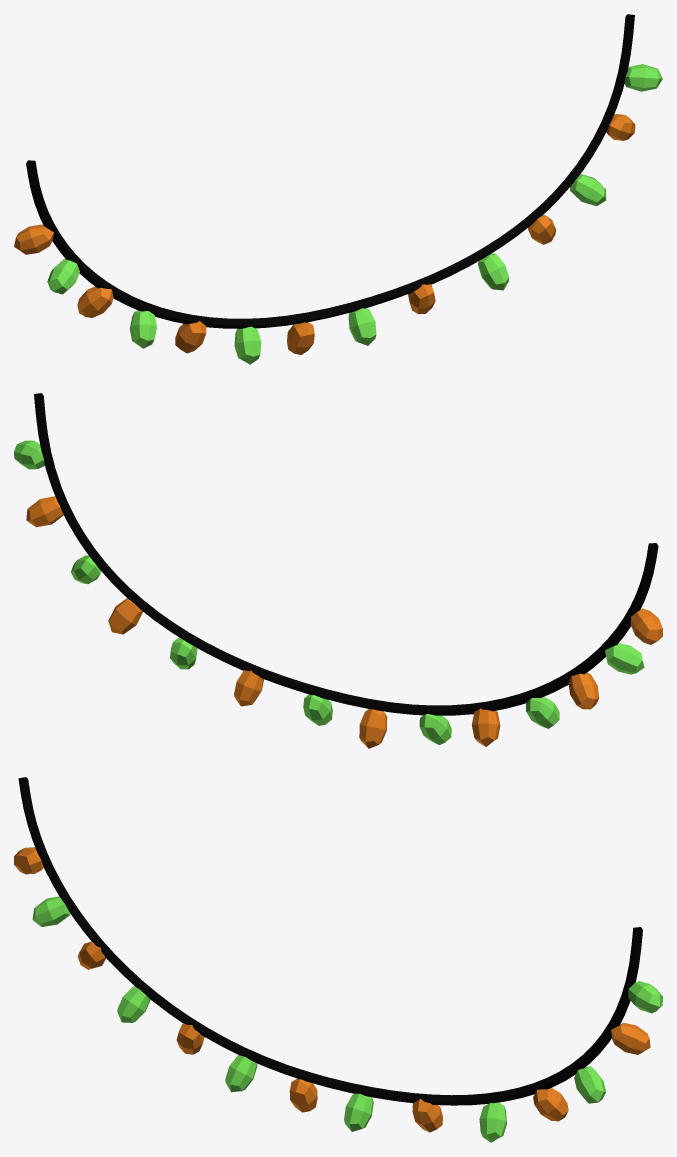
The model's file is Flasher.fbx.
The picture shows the model from 3 angles, top to bottom: view 1: azimuth 30°, elevation 25°; view 2: azimuth 150°, elevation 25°; view 3: azimuth 330°, elevation 25°; orthographic projection. The views are drawn at different scales.
Parts seen in each view (by area): view 1: Flasher.001, Flasher, Flasher.002; view 2: Flasher.001, Flasher.002, Flasher; view 3: Flasher.001, Flasher, Flasher.002.
Boxes of the visible parts, bbox=[...] form: Flasher.001: bbox=[26, 14, 634, 328]; Flasher: bbox=[47, 64, 662, 364]; Flasher.002: bbox=[14, 114, 635, 354]; Flasher.001: bbox=[34, 393, 658, 715]; Flasher.002: bbox=[26, 496, 662, 748]; Flasher: bbox=[14, 440, 644, 744]; Flasher.001: bbox=[18, 777, 642, 1105]; Flasher: bbox=[32, 896, 662, 1142]; Flasher.002: bbox=[14, 847, 650, 1132].
Size of the model in its own units: 697 by 272 by 39.03.
